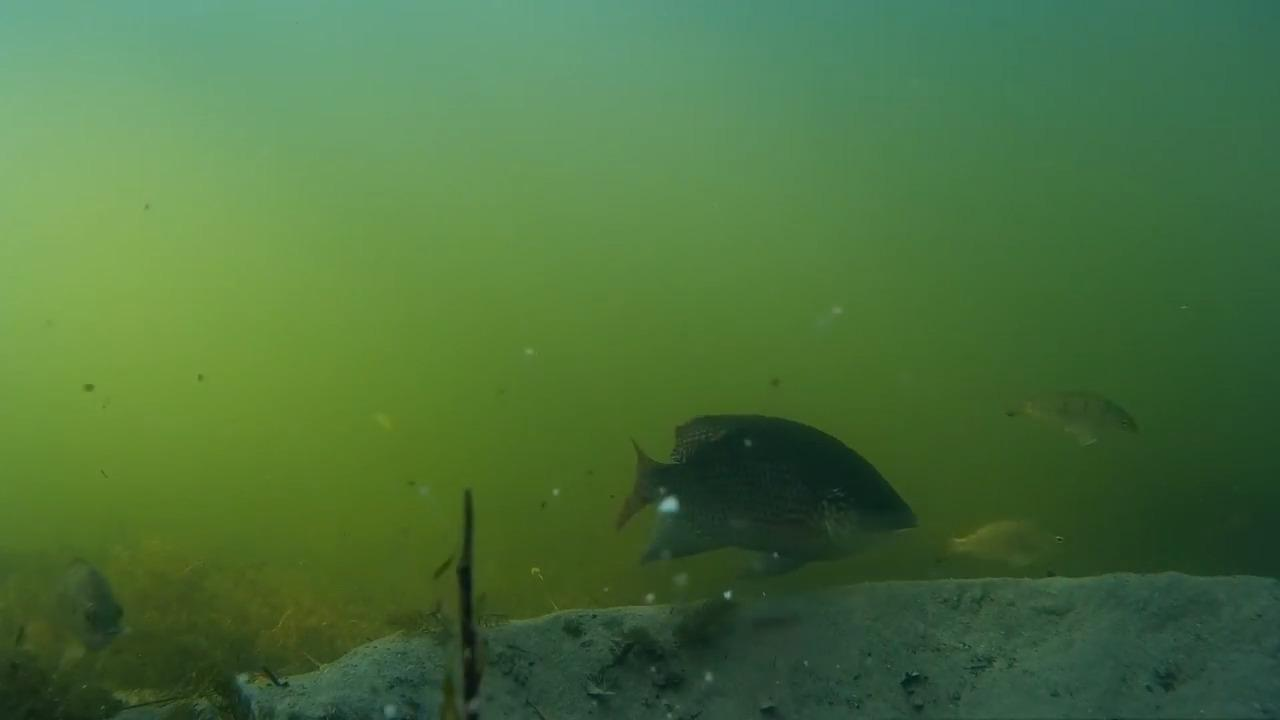Tilapia: (608, 412, 935, 560), (950, 506, 1093, 604), (29, 546, 141, 650), (1014, 382, 1143, 470)
